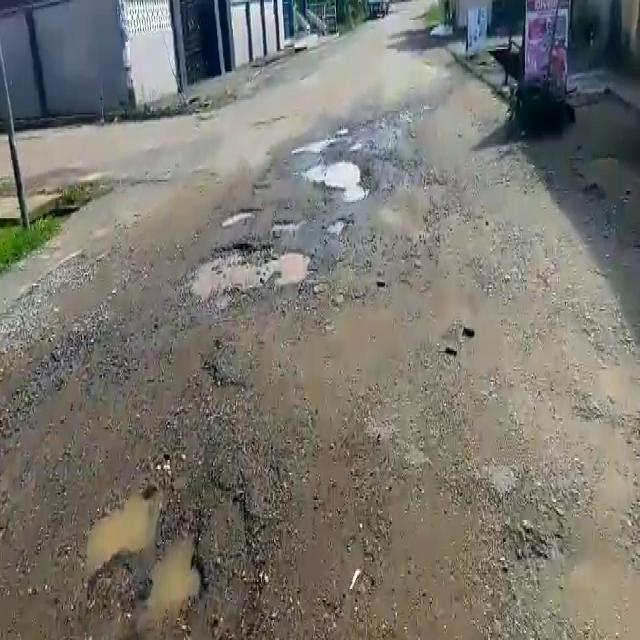Pothole: (84, 482, 207, 640), (183, 248, 312, 306), (298, 159, 366, 202), (218, 206, 261, 227), (274, 219, 303, 235)
